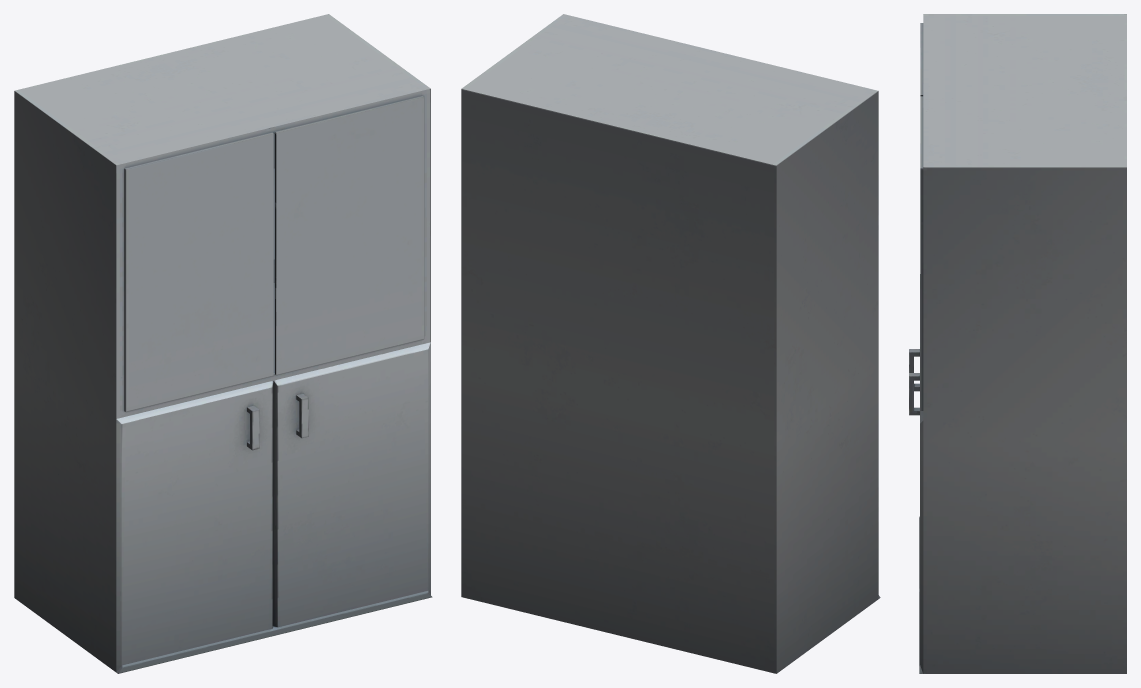
The model's file is SM_Shelf.FBX.
3 views of the same model, side by side, from view 1: azimuth 30°, elevation 25°; view 2: azimuth 150°, elevation 25°; view 3: azimuth 270°, elevation 25° (orthographic).
Visible parts, largest first — view 1: SM_Shelf; view 2: SM_Shelf; view 3: SM_Shelf.
Part boxes in pixels (left/top/right/bottom): SM_Shelf: left=14, top=14, right=432, bottom=673; SM_Shelf: left=461, top=14, right=880, bottom=673; SM_Shelf: left=909, top=14, right=1126, bottom=673.
Size of the model in its own units: 122 by 73.39 by 188.
